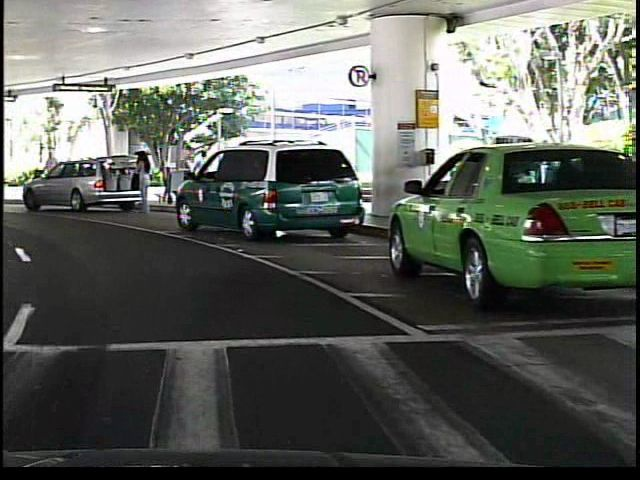person: (131, 147, 150, 220), (149, 154, 172, 212), (36, 148, 60, 200)
